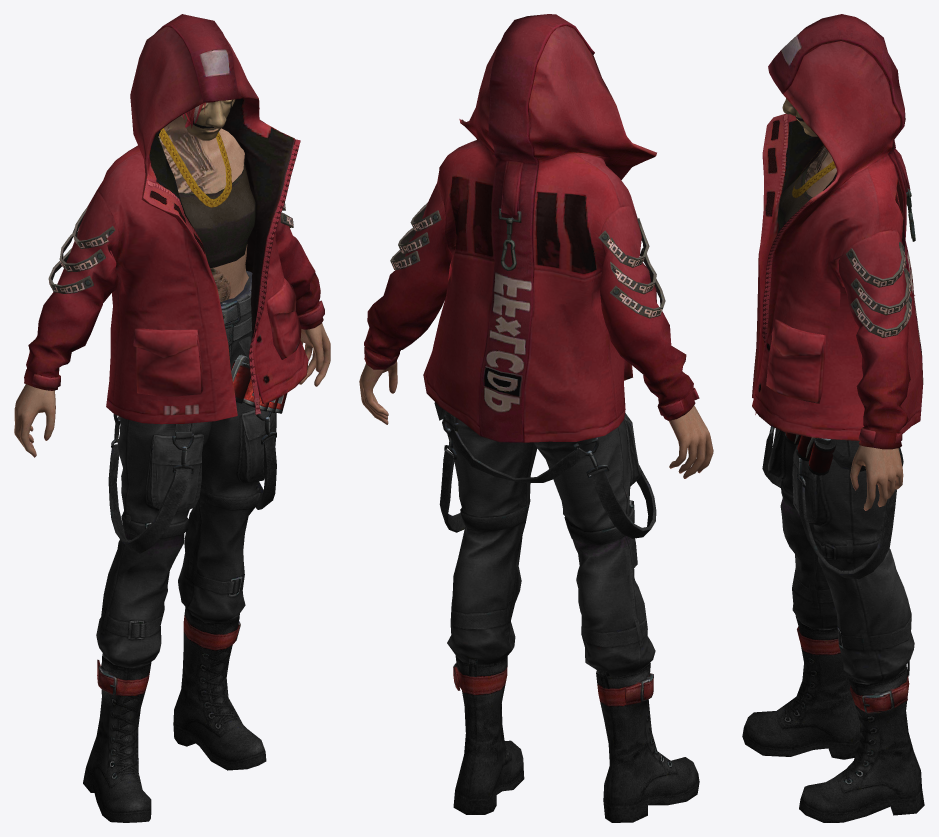
File: plan_burmuda_free_fire.glb
The picture shows the model from 3 angles, left to right: view 1: azimuth 30°, elevation 25°; view 2: azimuth 150°, elevation 25°; view 3: azimuth 270°, elevation 25°; orthographic projection. The views are drawn at different scales.
Parts seen in each view (by area): view 1: Object_3, Object_5, Object_6, Object_7, Object_4; view 2: Object_3, Object_5, Object_6, Object_7; view 3: Object_3, Object_5, Object_6, Object_7.
Part boxes in pixels (box(x1,y1,x2,y2)): Object_3: box(24, 14, 324, 424); Object_5: box(96, 270, 287, 668); Object_6: box(83, 607, 266, 822); Object_7: box(14, 115, 330, 457); Object_4: box(182, 99, 235, 140); Object_3: box(364, 14, 699, 442); Object_5: box(434, 402, 656, 676); Object_6: box(453, 655, 699, 822); Object_7: box(359, 361, 713, 478); Object_3: box(752, 14, 923, 449); Object_5: box(762, 426, 914, 683); Object_6: box(742, 616, 924, 822); Object_7: box(804, 145, 903, 510).
Size of the model in its own units: 2.3 by 5.12 by 1.09.
Materials: 6 (6 with a texture image).
